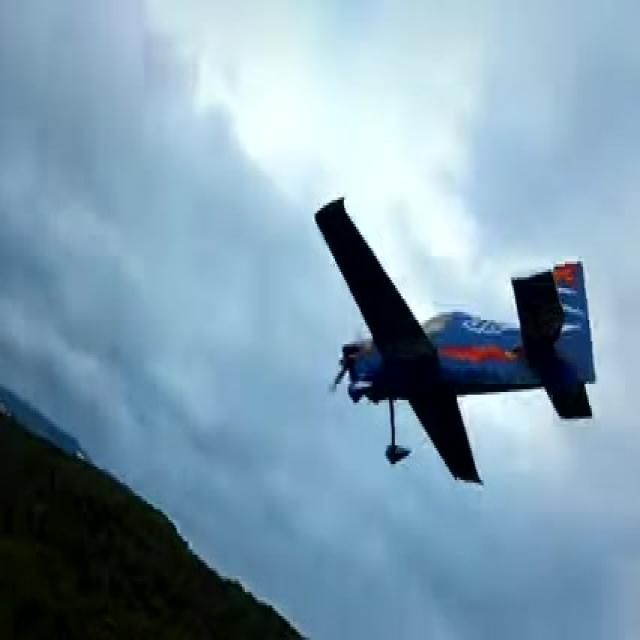iha: (304, 188, 593, 488)
